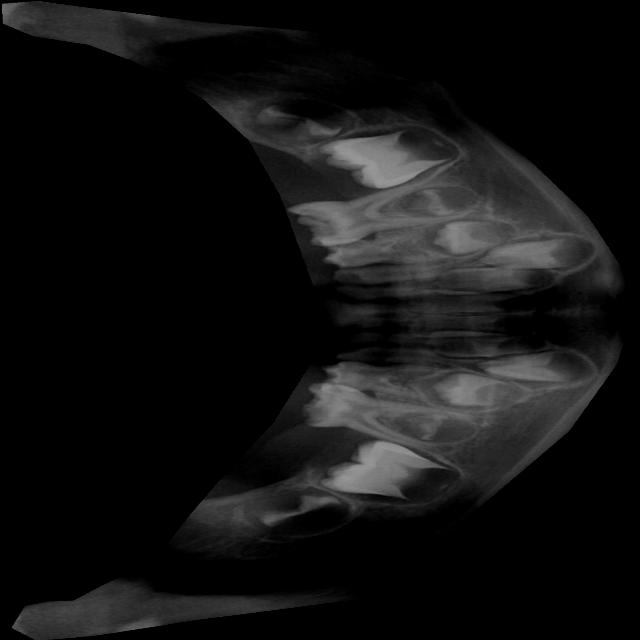mandibula: (1, 0, 640, 640)
